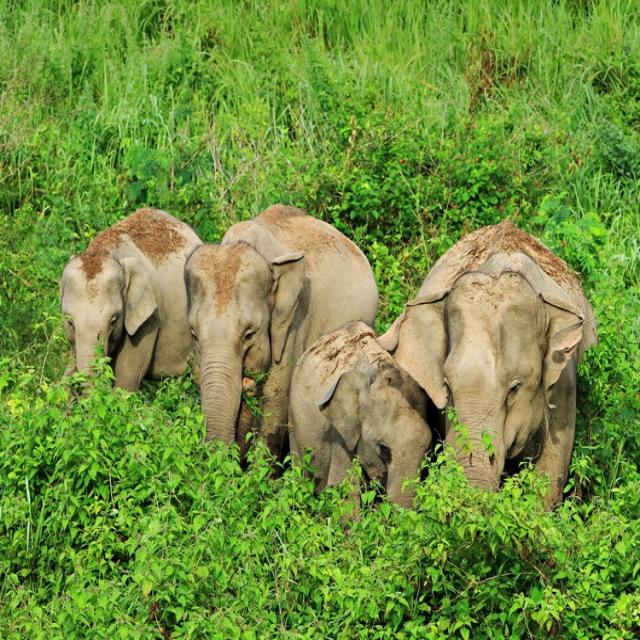Elephant: (389, 216, 620, 519), (182, 208, 384, 468), (270, 322, 432, 526), (46, 203, 192, 398)
